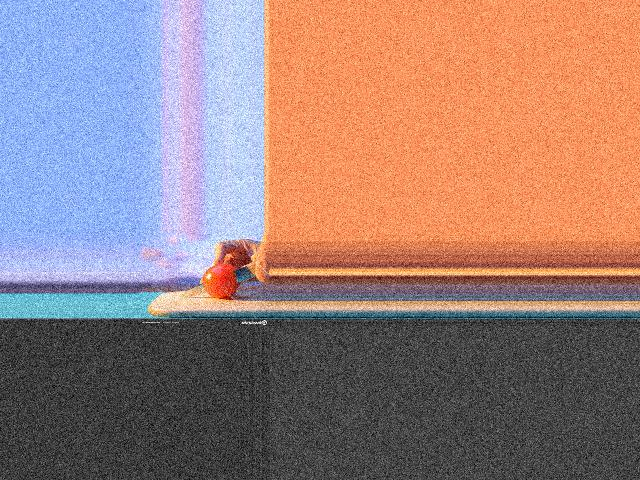tomato: (201, 264, 238, 299)
